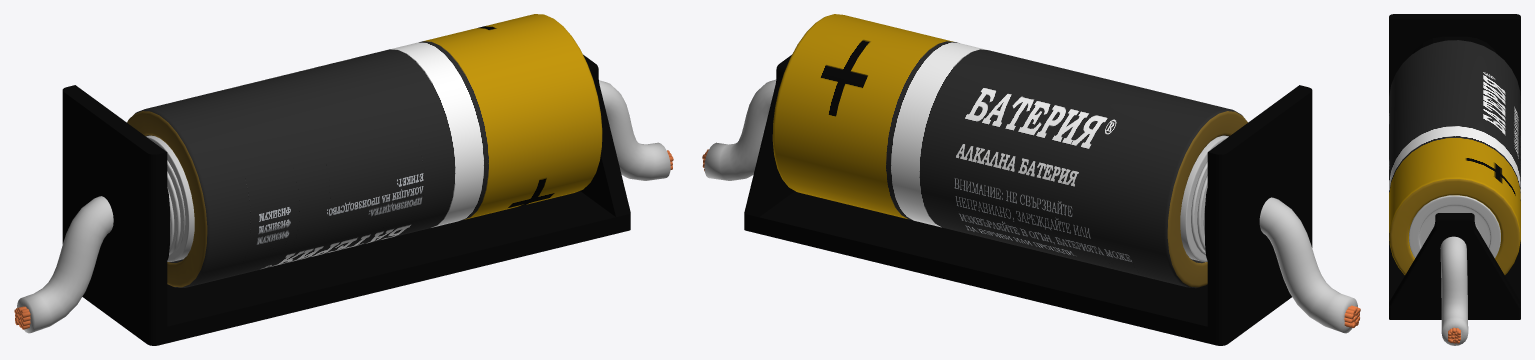
File: Battery3.fbx
3 renders of one model, left to right at view 1: azimuth 30°, elevation 25°; view 2: azimuth 150°, elevation 25°; view 3: azimuth 270°, elevation 25°, orthographic. The views are drawn at different scales.
Parts seen in each view (by area): view 1: Cylinder, Cube, BezierCurve.008, BezierCurve.057, Cylinder.001, Circle; view 2: Cylinder, Cube, BezierCurve.008, BezierCurve.057, Cylinder.001, Circle; view 3: Cylinder, Cube, BezierCurve.057, Cylinder.001, BezierCurve.059.
Part boxes in pixels (left/top/right/bottom): Cylinder: left=127, top=14, right=602, bottom=287; Cube: left=62, top=54, right=630, bottom=345; BezierCurve.008: left=17, top=196, right=113, bottom=333; BezierCurve.057: left=599, top=80, right=670, bottom=180; Cylinder.001: left=146, top=135, right=194, bottom=261; Circle: left=167, top=160, right=185, bottom=255; Cylinder: left=772, top=14, right=1247, bottom=288; Cube: left=744, top=55, right=1312, bottom=345; BezierCurve.008: left=1259, top=197, right=1357, bottom=333; BezierCurve.057: left=704, top=79, right=776, bottom=180; Cylinder.001: left=1180, top=135, right=1228, bottom=262; Circle: left=1191, top=161, right=1207, bottom=255; Cylinder: left=1389, top=40, right=1520, bottom=274; Cube: left=1389, top=14, right=1520, bottom=319; BezierCurve.057: left=1440, top=236, right=1468, bottom=345; Cylinder.001: left=1409, top=195, right=1500, bottom=258; BezierCurve.059: left=1448, top=327, right=1460, bottom=343.
Bounding box in the file's own units: 819 × 230 × 200.
